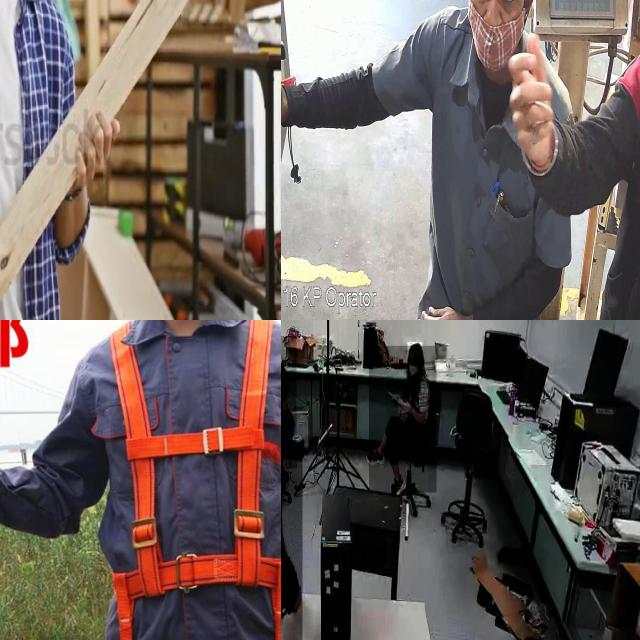Harness: (99, 320, 281, 640)
No_Glasses: (467, 0, 526, 18)
face_mask: (408, 358, 420, 379)
hand_noglove: (399, 399, 411, 414)
head_nohelmet: (407, 342, 423, 358)
person: (0, 0, 92, 320), (369, 346, 437, 493), (281, 335, 297, 468)
shoes: (364, 446, 386, 470), (389, 472, 406, 500)
